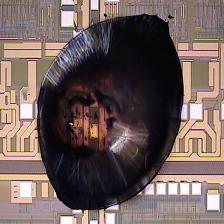PO CONTAMINATION: (35, 13, 189, 215)
